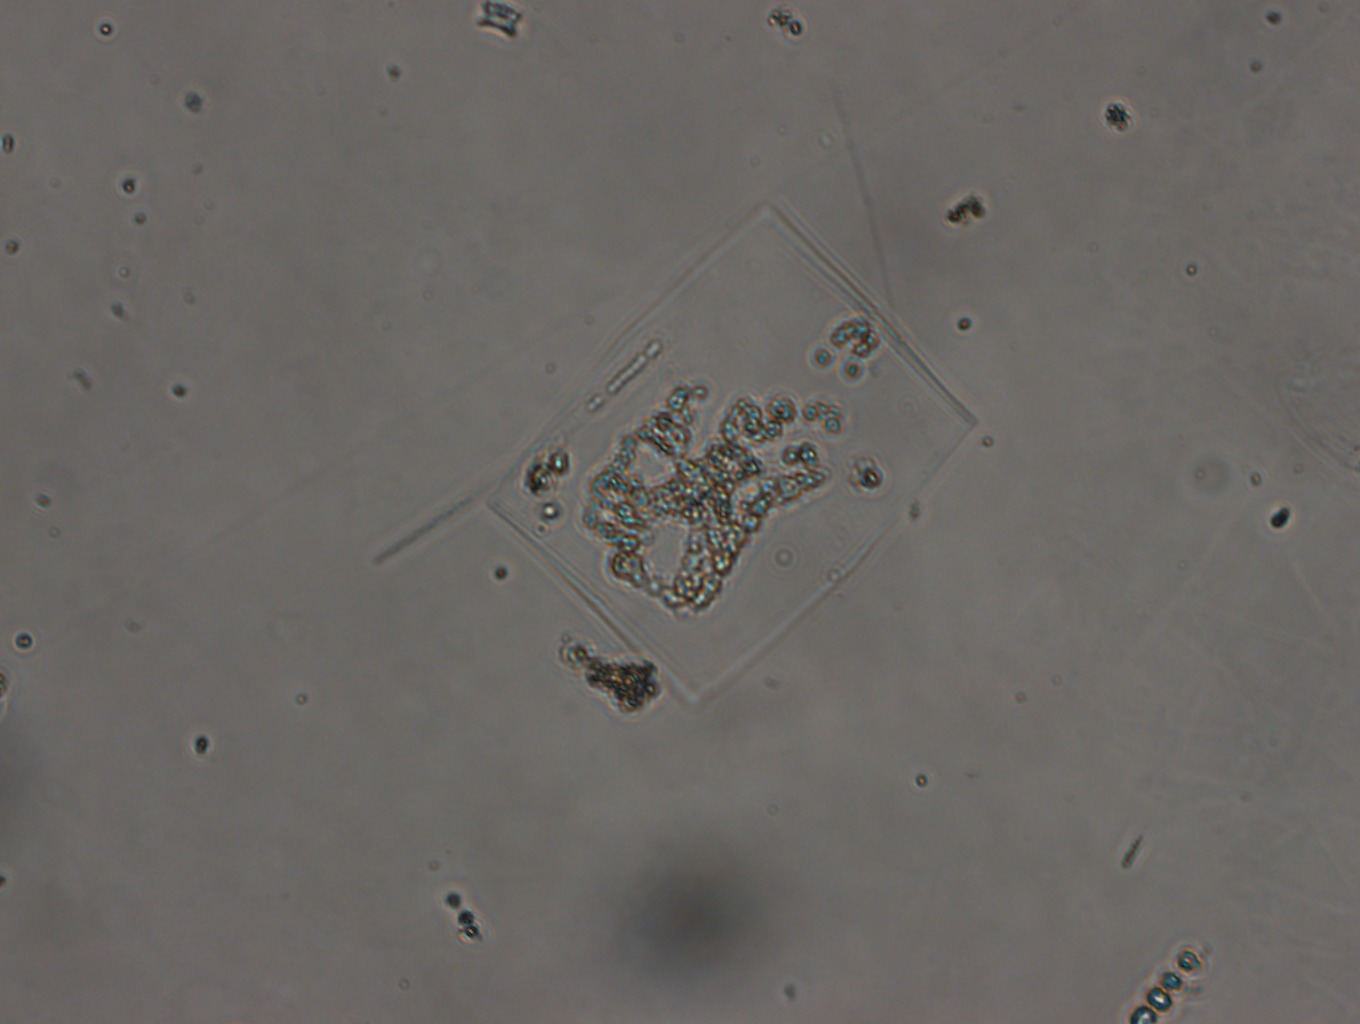helicotheca: (486, 200, 978, 703)
